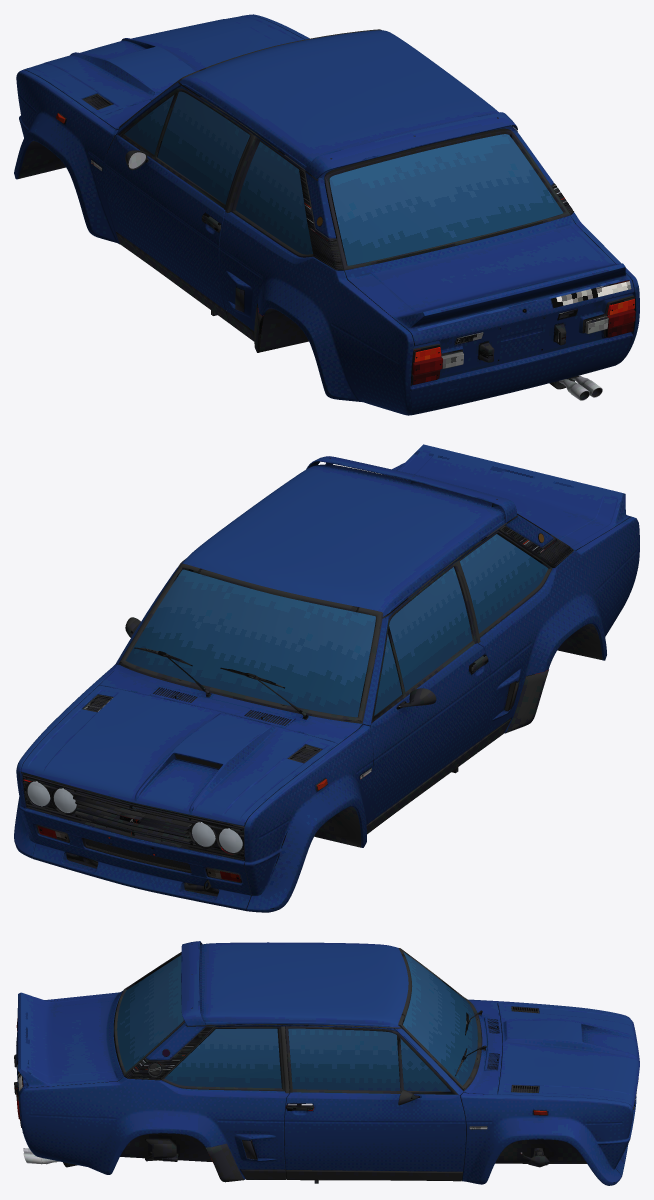
The model's file is fiat_131_abarth_chassis.glb.
3 renders of one model, top to bottom at view 1: azimuth 30°, elevation 25°; view 2: azimuth 150°, elevation 25°; view 3: azimuth 270°, elevation 25°, orthographic. The views are drawn at different scales.
Visible parts, largest first — view 1: Fiat131Abarth_Exterior; view 2: Fiat131Abarth_Exterior; view 3: Fiat131Abarth_Exterior.
Boxes of the visible parts, left/top/right/bottom form: Fiat131Abarth_Exterior: left=14, top=14, right=639, bottom=415; Fiat131Abarth_Exterior: left=14, top=444, right=639, bottom=912; Fiat131Abarth_Exterior: left=14, top=941, right=639, bottom=1185.
Bounding box in the file's own units: 1.85 × 1.24 × 4.16.
Materials: 2 (2 with a texture image).
